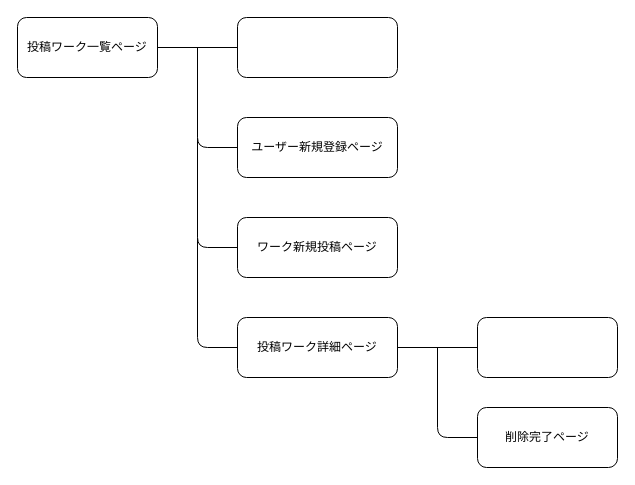
Some shapes in this 635 by 485 pixel diagram are drawn without their labels. Each missing label, with the centre of its shape:
ユーザーログインページ: the point at 317,47
編集ページ: the point at 547,347
